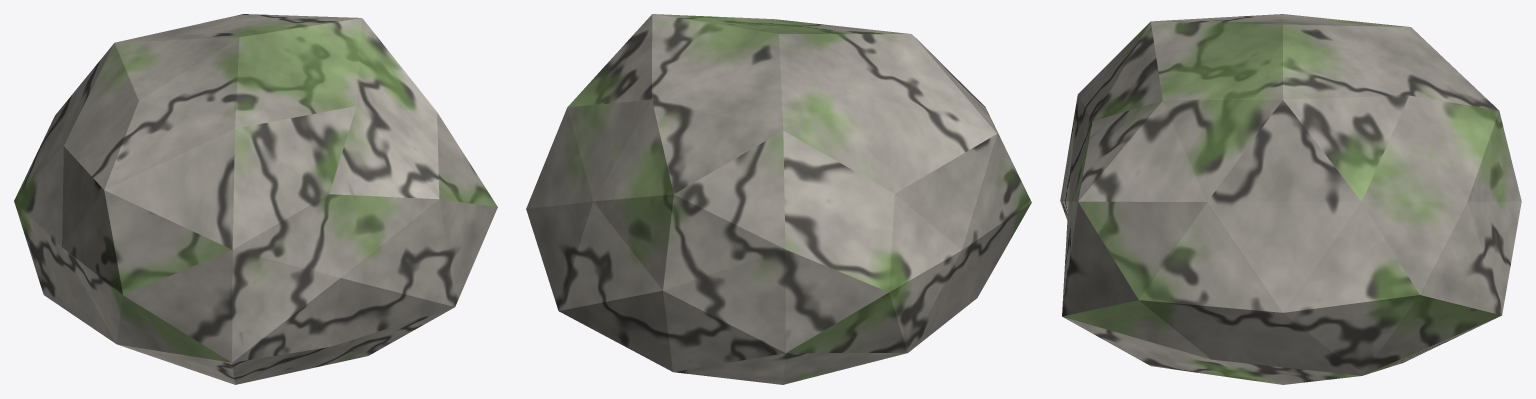
Rendered from Boulder_LOD3.fbx.
The picture shows the model from 3 angles, left to right: view 1: azimuth 30°, elevation 25°; view 2: azimuth 150°, elevation 25°; view 3: azimuth 270°, elevation 25°; orthographic projection. The views are drawn at different scales.
Visible parts, largest first — view 1: Boulder_LOD3; view 2: Boulder_LOD3; view 3: Boulder_LOD3.
Part boxes in pixels (<box>): Boulder_LOD3: <box>14,14,497,384</box>; Boulder_LOD3: <box>526,14,1031,384</box>; Boulder_LOD3: <box>1060,14,1521,384</box>.
Size of the model in its own units: 0.9121 by 0.637 by 0.8676.
Materials: 1 (1 with a texture image).
